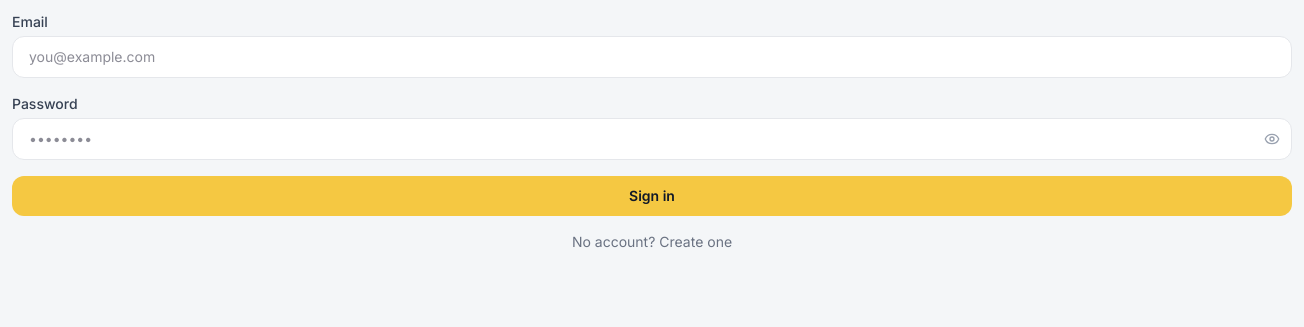
LoginForm › clears the server error when the user edits the email field
Step 1. Type "user@test.com" into the field labelled "Email" → (652, 57), box [12,36,1292,78]
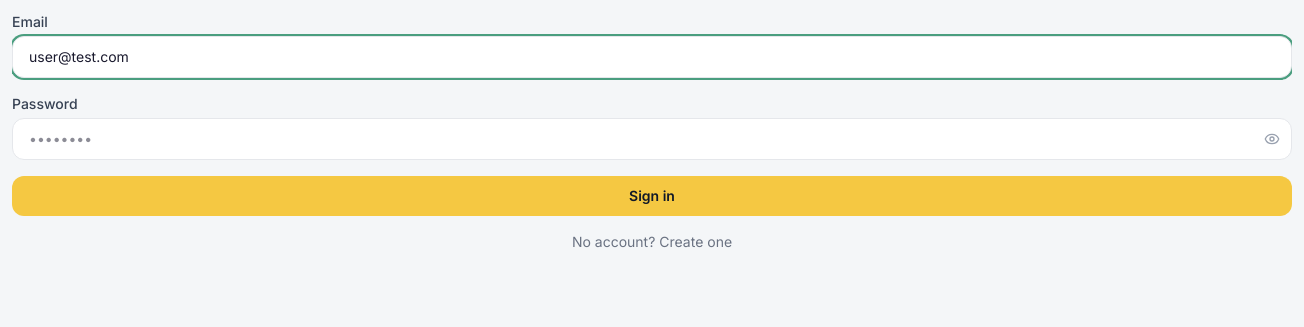
Step 2. Type "password123" into the password field labelled "Password" → (652, 139), box [12,118,1292,160]
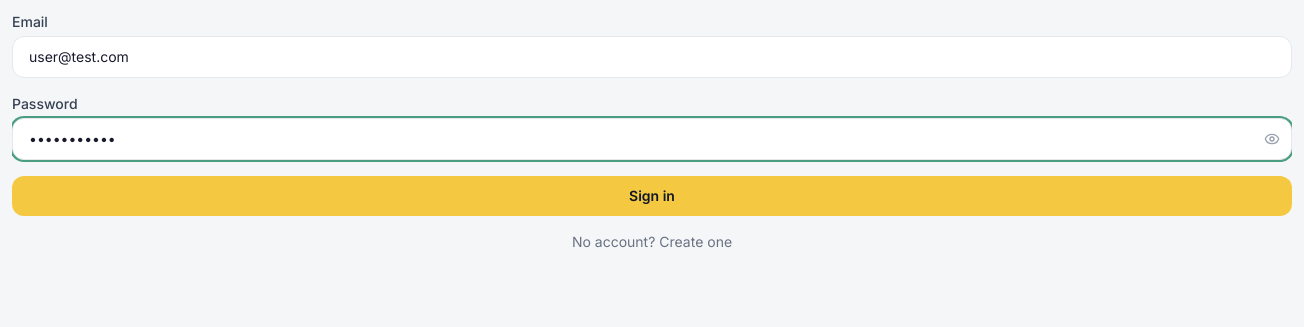
Step 3. Click the button "Sign in" → (652, 196), box [12,176,1292,216]
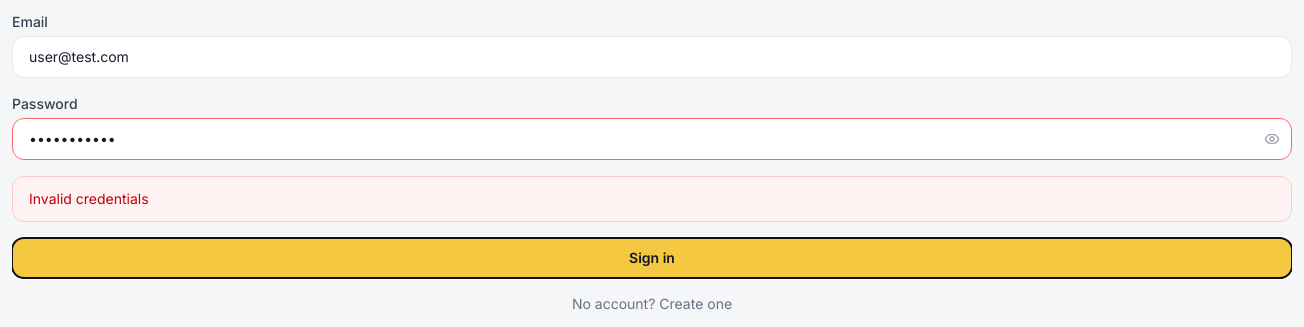
Now the text "Invalid credentials" is shown, box [12,176,1292,222]
Step 4. Type "x" into the field labelled "Email" → (652, 57), box [12,36,1292,78]
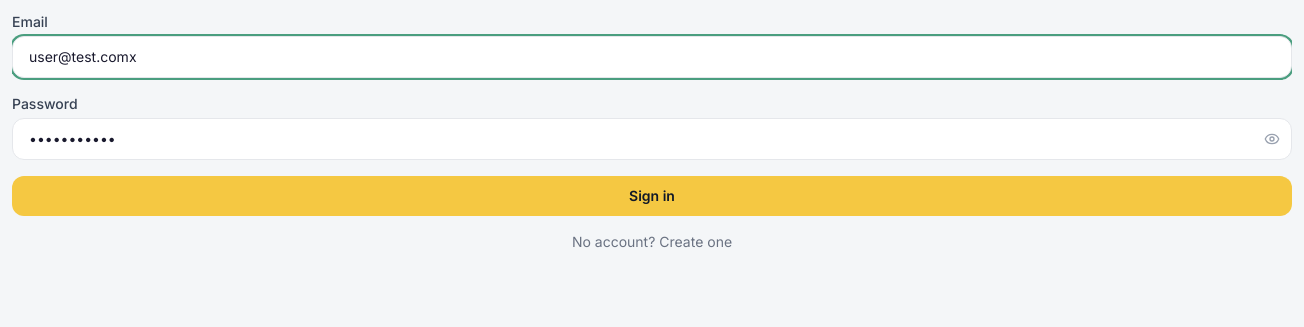
Now the text "Invalid credentials" is gone
